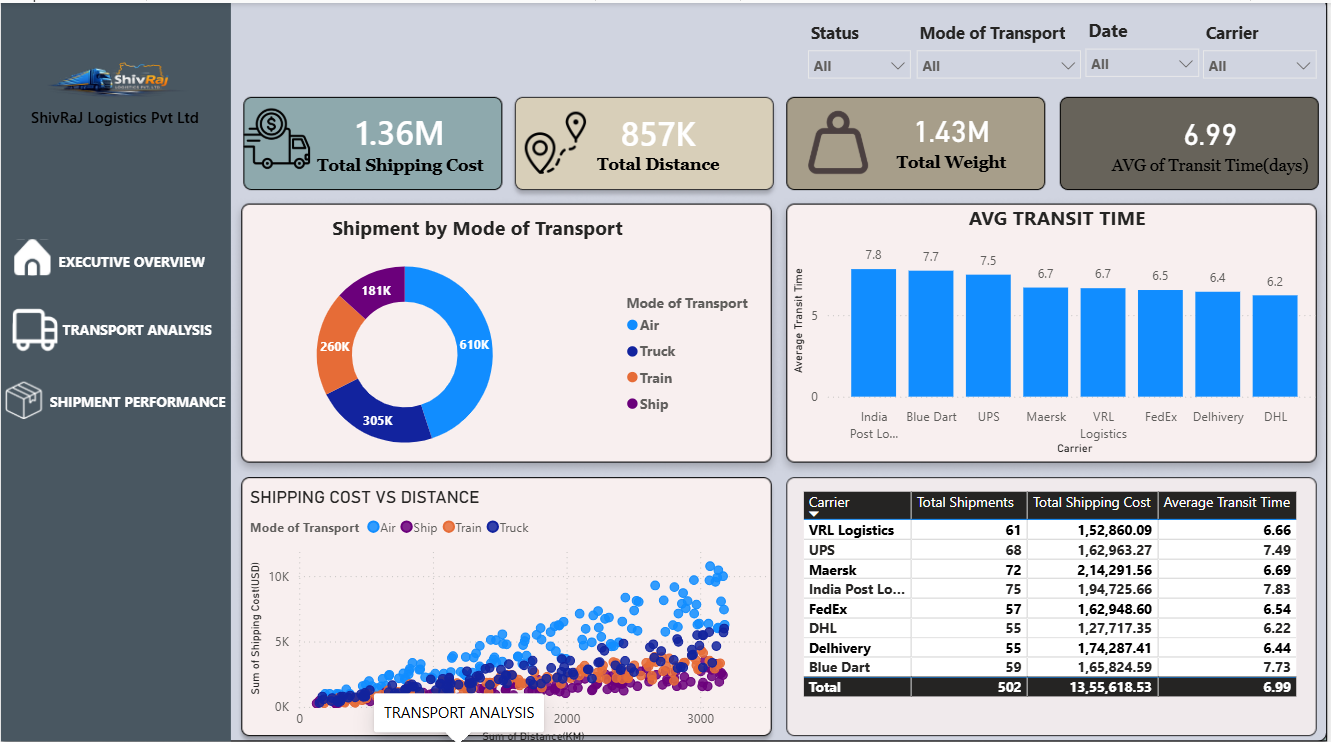

Layout of this report page (visuals, bound fields, positions):
{"tool":"powerbi","page":{"name":"TRANSPORT ANALYSIS","canvas":[1280,720],"ordinal":1},"visuals":[{"type":"image","box":[0,0,220.7,155.8],"z":0},{"type":"textbox","box":[22.1,95.6,176.5,35.3],"z":1000},{"type":"cardVisual","fields":{"Data":["TransportLogisticsTable.Total Distance"]},"box":[496.3,77.9,277,111.1],"z":2000},{"type":"actionButton","box":[0,217.9,207.8,54.8],"z":3000},{"type":"actionButton","box":[4.3,290,207.8,51.9],"z":4000},{"type":"actionButton","box":[0,360.7,220.7,46.2],"z":5000},{"type":"donutChart","title":"Shipment by Mode of Transport","fields":{"Category":["TransportLogisticsTable.Mode of Transport"],"Y":["TransportLogisticsTable.Total Shipping Cost"]},"box":[171.7,203.4,577.1,251],"z":6000},{"type":"columnChart","title":"AVG TRANSIT TIME","fields":{"Y":["TransportLogisticsTable.Average Transit Time"],"Category":["TransportLogisticsTable.Carrier"]},"box":[758.9,194.8,520.8,246.7],"z":7000},{"type":"scatterChart","title":"SHIPPING COST VS DISTANCE","fields":{"X":["Sum(TransportLogisticsTable.Distance(KM))"],"Series":["TransportLogisticsTable.Mode of Transport"],"Y":["Sum(TransportLogisticsTable.Shipping Cost(USD))"],"Category":["TransportLogisticsTable.Shipment ID"]},"box":[235.2,467.5,522.3,252.5],"z":8000},{"type":"tableEx","fields":{"Values":["TransportLogisticsTable.Carrier","TransportLogisticsTable.Total Shipments","TransportLogisticsTable.Total Shipping Cost","TransportLogisticsTable.Average Transit Time"]},"box":[769,467.5,499.2,213.5],"z":9000},{"type":"slicer","fields":{"Values":["TransportLogisticsTable.Carrier"]},"box":[1150.2,11.5,129.8,63.5],"z":10000},{"type":"slicer","fields":{"Values":["TransportLogisticsTable.Date"]},"box":[1035.9,10.1,129.8,63.5],"z":11000},{"type":"slicer","fields":{"Values":["TransportLogisticsTable.Mode of Transport"]},"box":[872.9,11.5,178.9,63.5],"z":12000},{"type":"slicer","fields":{"Values":["TransportLogisticsTable.Status"]},"box":[769,11.5,119.7,63.5],"z":13000},{"type":"card","fields":{"Values":["TransportLogisticsTable.Total Weight"]},"box":[701.2,75,432.8,112.5],"z":14000},{"type":"card","fields":{"Values":["TransportLogisticsTable.Total Shipping Cost"]},"box":[275.6,8.7,220.7,251],"z":15000},{"type":"card","fields":{"Values":["Avg(TransportLogisticsTable.Transit Time(days))"]},"box":[1043.1,36.1,236.6,194.8],"z":16000},{"type":"image","box":[207.8,98.1,124.1,66.4],"z":17000},{"type":"image","box":[748.8,101,124.1,66.4],"z":18000},{"type":"image","box":[503.5,85.1,70.7,98.1],"z":19000},{"type":"image","box":[1020,98.1,66.4,67.8],"z":19001}]}

Visuals, with their boxes on the page's 1280x720 design canvas (x1, y1, x2, y2). These are canvas units, not pixel positions in the 1331x742 screenshot, which may show the page scaled, cropped or inside an application window:
image: bbox(0, 0, 221, 156)
textbox: bbox(22, 96, 199, 131)
cardVisual - TransportLogisticsTable.Total Distance: bbox(496, 78, 773, 189)
actionButton: bbox(0, 218, 208, 273)
actionButton: bbox(4, 290, 212, 342)
actionButton: bbox(0, 361, 221, 407)
"Shipment by Mode of Transport" donutChart: bbox(172, 203, 749, 454)
"AVG TRANSIT TIME" columnChart: bbox(759, 195, 1280, 442)
"SHIPPING COST VS DISTANCE" scatterChart: bbox(235, 468, 758, 720)
tableEx - TransportLogisticsTable.Carrier x TransportLogisticsTable.Total Shipments: bbox(769, 468, 1268, 681)
slicer - TransportLogisticsTable.Carrier: bbox(1150, 12, 1280, 75)
slicer - TransportLogisticsTable.Date: bbox(1036, 10, 1166, 74)
slicer - TransportLogisticsTable.Mode of Transport: bbox(873, 12, 1052, 75)
slicer - TransportLogisticsTable.Status: bbox(769, 12, 889, 75)
card - TransportLogisticsTable.Total Weight: bbox(701, 75, 1134, 188)
card - TransportLogisticsTable.Total Shipping Cost: bbox(276, 9, 496, 260)
card - Avg(TransportLogisticsTable.Transit Time(days)): bbox(1043, 36, 1280, 231)
image: bbox(208, 98, 332, 164)
image: bbox(749, 101, 873, 167)
image: bbox(504, 85, 574, 183)
image: bbox(1020, 98, 1086, 166)
